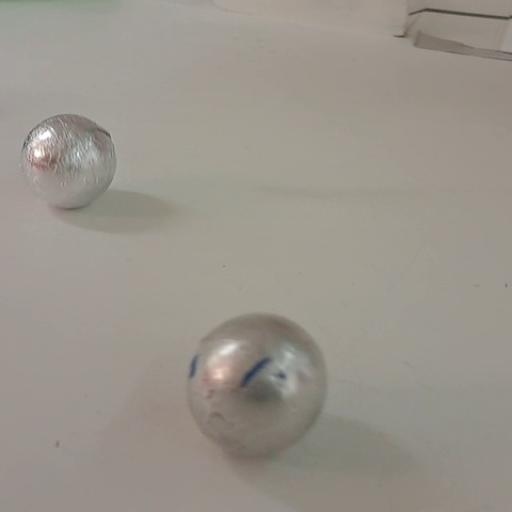alive: (182, 308, 335, 460), (18, 114, 118, 210)
